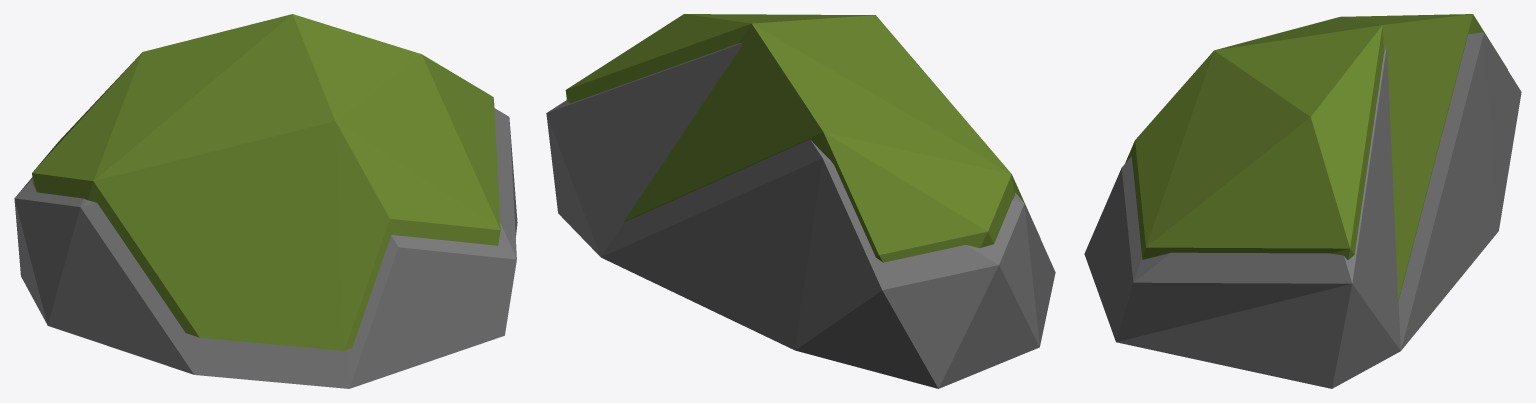
The model's file is Stone_1_moss_vc.fbx.
3 views of the same model, side by side, from view 1: azimuth 30°, elevation 25°; view 2: azimuth 150°, elevation 25°; view 3: azimuth 270°, elevation 25° (orthographic). The views are drawn at different scales.
Visible parts, largest first — view 1: Stone_1_moss_vc; view 2: Stone_1_moss_vc; view 3: Stone_1_moss_vc.
Part boxes in pixels (bbox=[...]): Stone_1_moss_vc: bbox=[14, 14, 517, 388]; Stone_1_moss_vc: bbox=[546, 14, 1055, 388]; Stone_1_moss_vc: bbox=[1084, 14, 1521, 388].
Bounding box in the file's own units: 1.33 × 0.7038 × 1.03.
